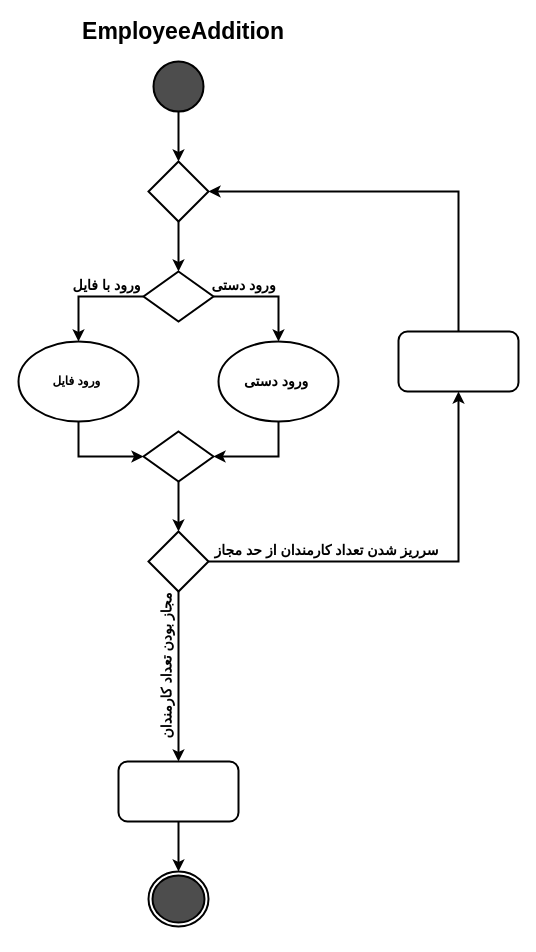
Image size: 536x952. Some labels were removed from this diagram. The shapes that lost their labels are listed below. From the top down, each one's centre as x and y in pixels, then its label:
At point (458, 361): "نمایش پیغام خطا".
At point (178, 791): "ذخیره تغییرات".
